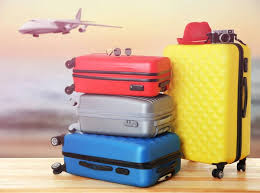suitcase: (158, 39, 250, 178), (48, 129, 181, 188), (60, 52, 172, 100), (69, 92, 176, 136)
